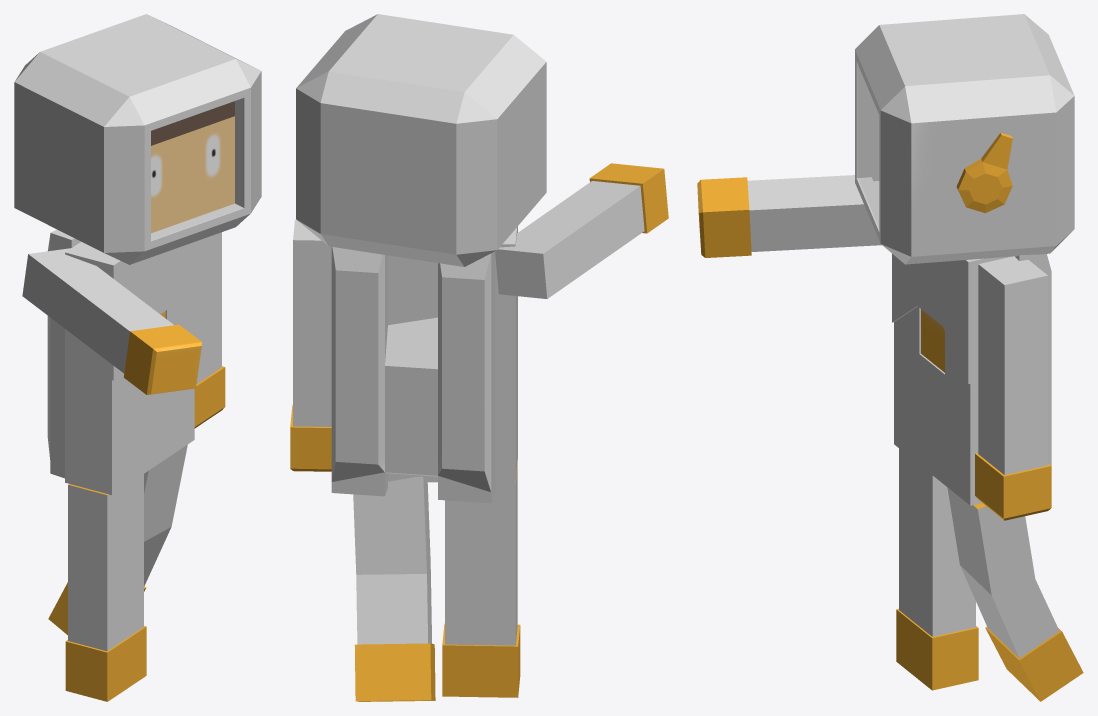
File: CharacterRDR2.fbx
3 renders of one model, left to right at view 1: azimuth 30°, elevation 25°; view 2: azimuth 150°, elevation 25°; view 3: azimuth 270°, elevation 25°, orthographic. The views are drawn at different scales.
Visible parts, largest first — view 1: Character; view 2: Character; view 3: Character.
Part boxes in pixels (x1=…): Character: x1=14, y1=14, x2=261, y2=701; Character: x1=290, y1=14, x2=668, y2=701; Character: x1=697, y1=14, x2=1083, y2=701.
Bounding box in the file's own units: 333 × 863 × 469.
